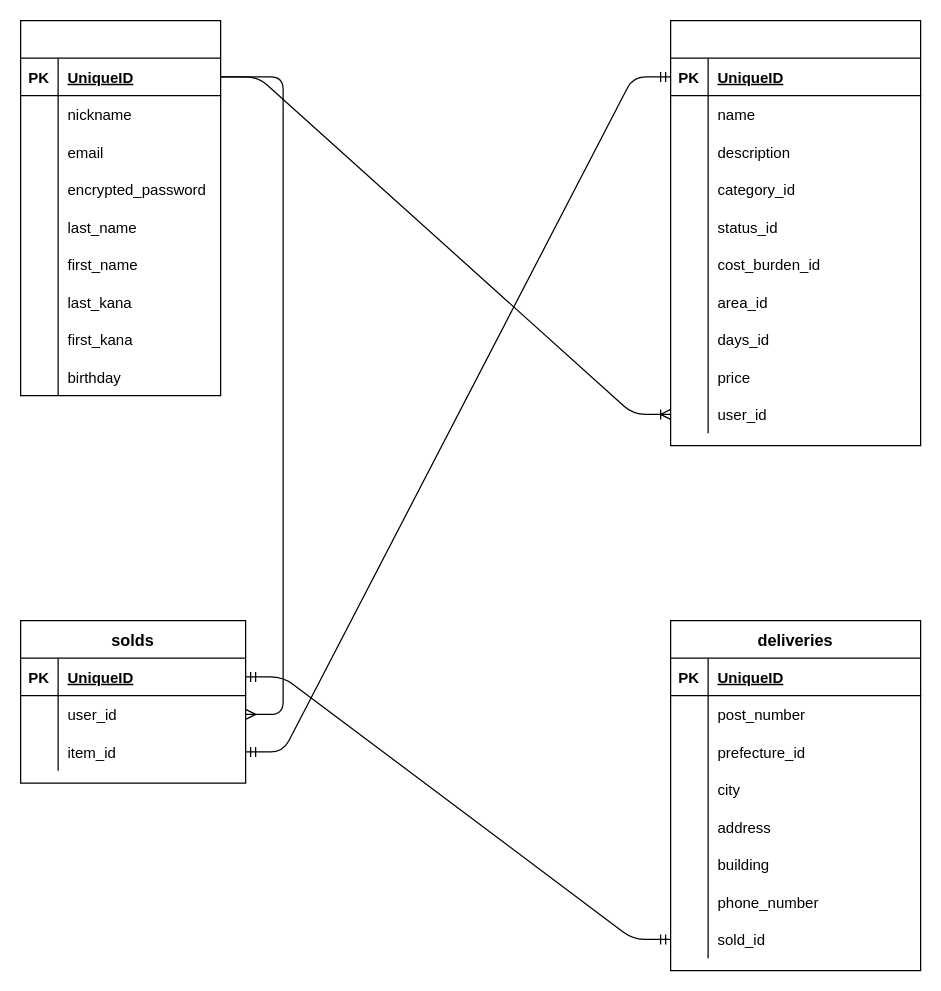
Some shapes in this 941 by 991 pixel diagram are drawn without their labels. Here are the shapes that lost their labels. From the top down, the box of each, then its label:
(19, 19, 221, 396): user
(669, 19, 921, 446): items
